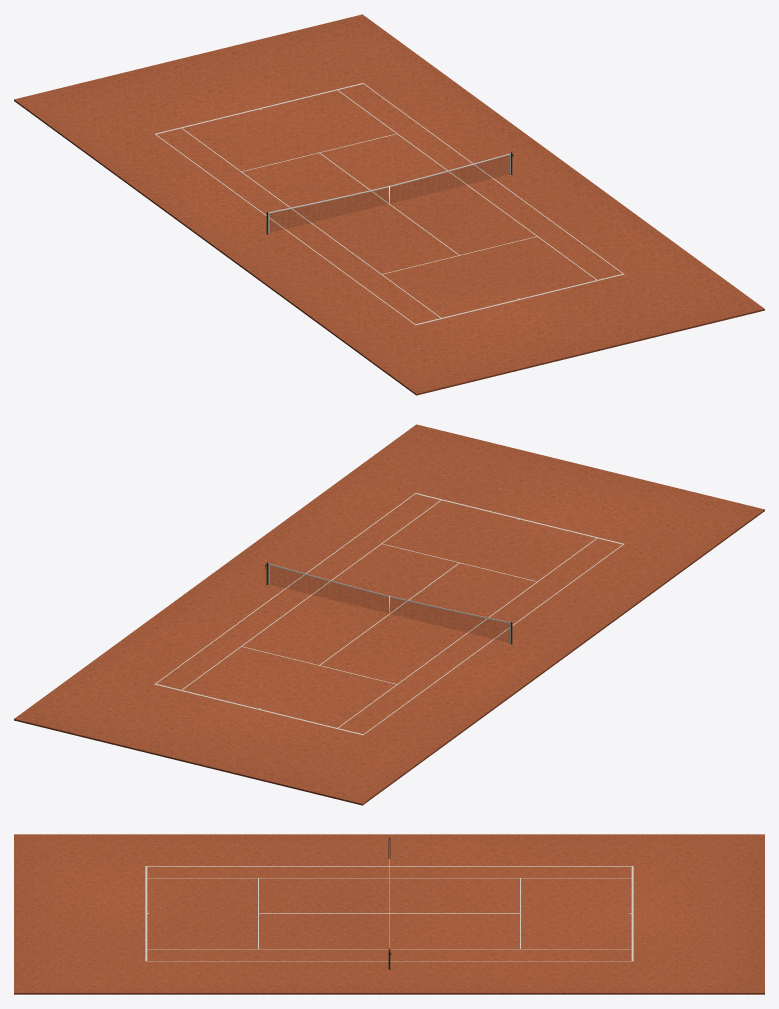
File: court.glb
The picture shows the model from 3 angles, top to bottom: view 1: azimuth 30°, elevation 25°; view 2: azimuth 150°, elevation 25°; view 3: azimuth 270°, elevation 25°; orthographic projection. The views are drawn at different scales.
Visible parts, largest first — view 1: clay, lines, net; view 2: clay, lines, net; view 3: clay, lines.
Boxes of the visible parts, x1,y1,x2,y2 form: clay: (14, 14, 764, 395); lines: (155, 83, 624, 325); net: (268, 153, 510, 233); clay: (14, 424, 764, 805); lines: (154, 493, 623, 735); net: (268, 563, 510, 643); clay: (14, 834, 764, 994); lines: (145, 866, 633, 961).
Size of the model in its own units: 18.29 by 1.17 by 36.57.
Materials: 6 (3 with a texture image).
